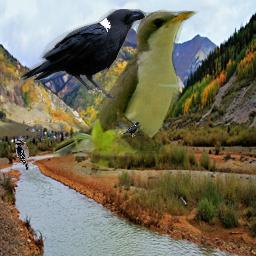Crow: (20, 9, 146, 100), (122, 121, 140, 137)
Cuckoo: (53, 6, 199, 178)
Woodpecker: (15, 140, 33, 170)
